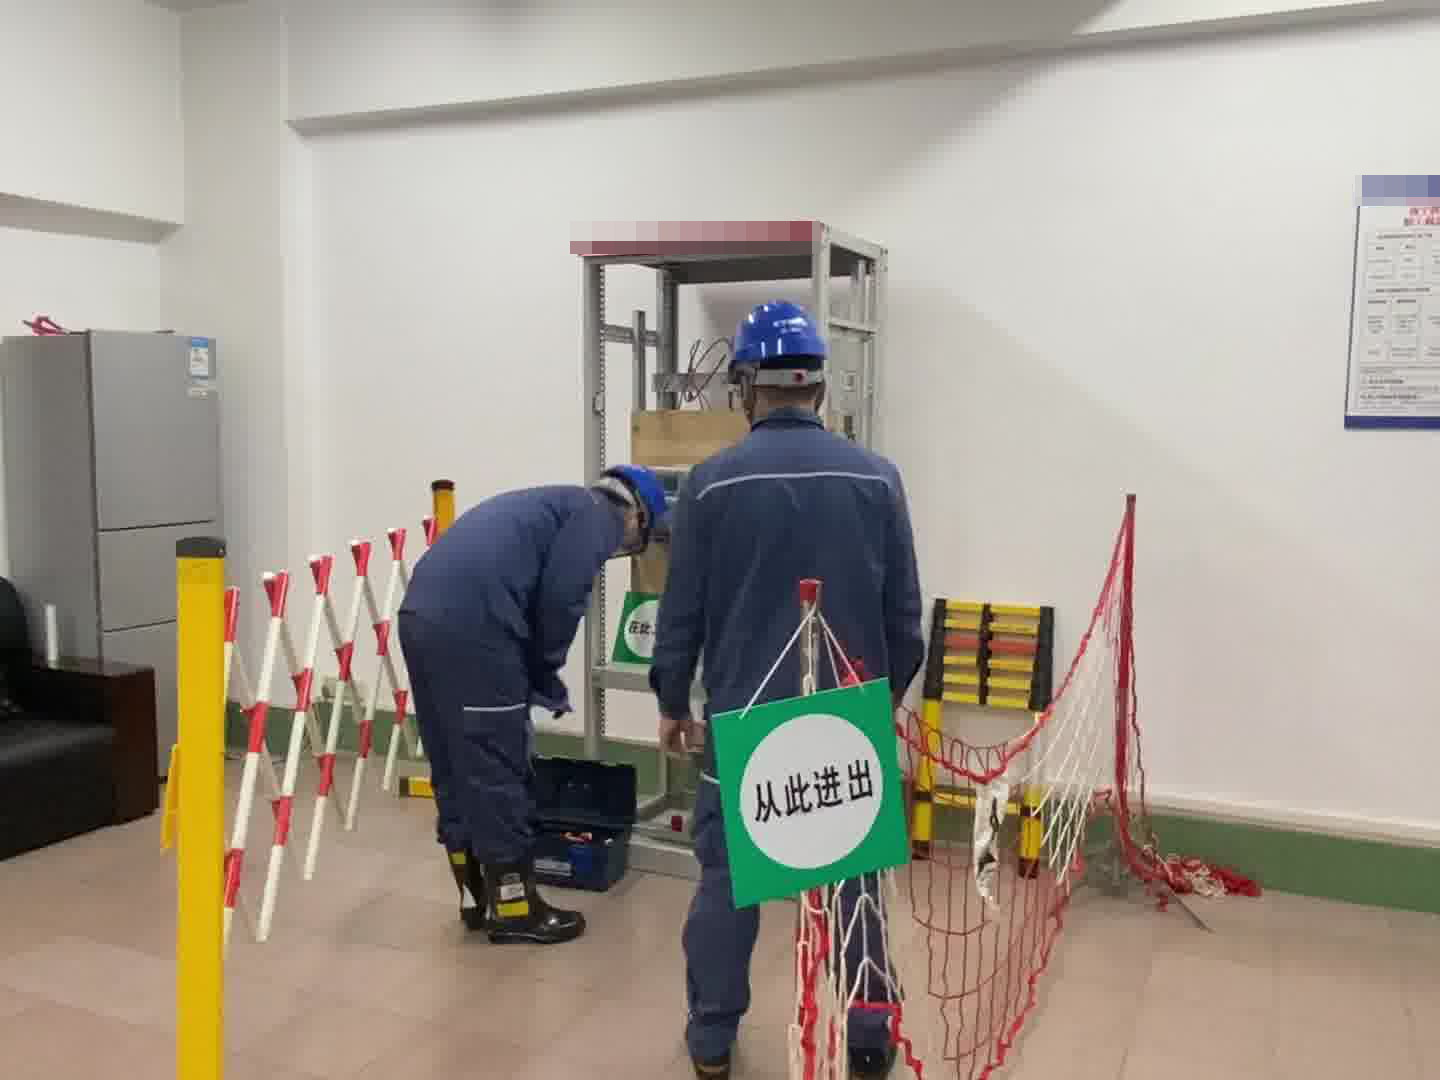downsuit: (398, 627, 540, 866), (678, 749, 764, 1046)
glove: (530, 668, 575, 723)
halt: (725, 298, 835, 417), (595, 461, 669, 558)
hand: (658, 717, 704, 766)
intosign: (698, 675, 914, 911)
person: (650, 293, 939, 1078), (395, 450, 665, 943)
shoe: (483, 858, 590, 945), (447, 847, 501, 931)
upsuit: (651, 416, 930, 708), (405, 485, 625, 622)
worksign: (607, 587, 666, 667)
